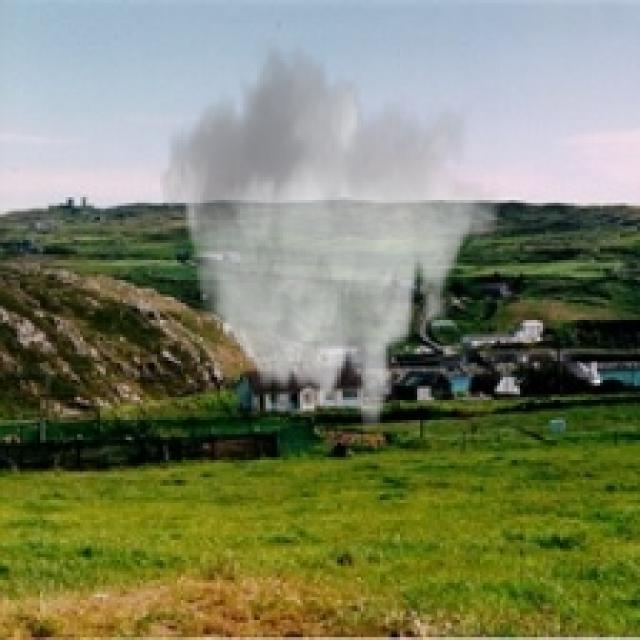Smoke: (157, 37, 500, 434)
